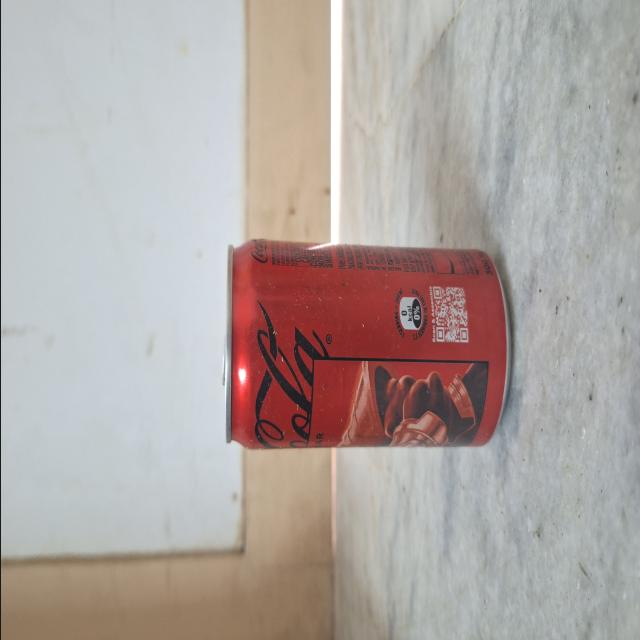Coca Cola Zero: (218, 228, 506, 468)
